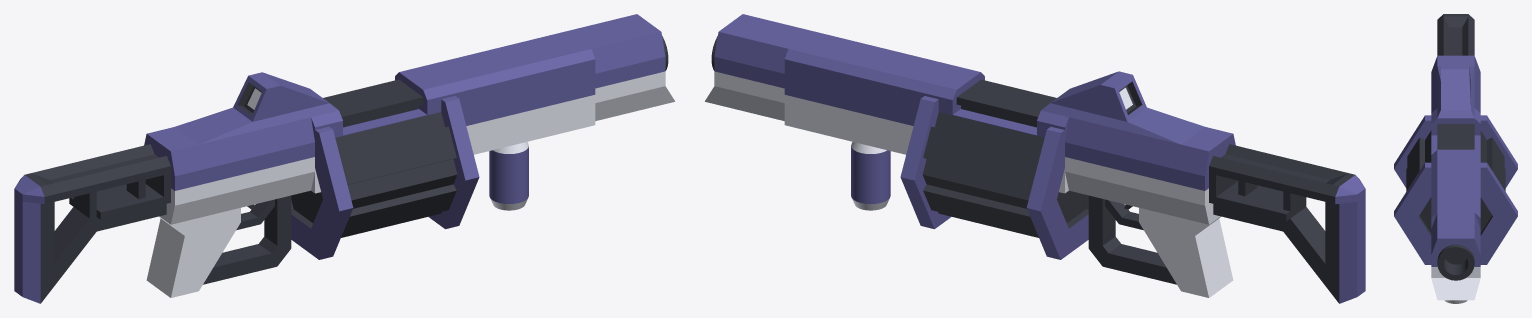
Rendered from BlasterHighCaliber1.fbx.
3 views of the same model, side by side, from view 1: azimuth 30°, elevation 25°; view 2: azimuth 150°, elevation 25°; view 3: azimuth 270°, elevation 25° (orthographic). The views are drawn at different scales.
Visible parts, largest first — view 1: mediumBlaster_handleGuard, clipBarrel_large, stock_stealth, blaster_center, mediumBlaster_barrelShort, blaster_centerDetail, detailCounter, attachment_handle; view 2: mediumBlaster_handleGuard, clipBarrel_large, stock_stealth, blaster_center, mediumBlaster_barrelShort, blaster_centerDetail, detailCounter, attachment_handle; view 3: clipBarrel_large, mediumBlaster_barrelShort, blaster_center, blaster_centerDetail, detailCounter, stock_stealth, mediumBlaster_handleGuard.
Boxes of the visible parts, bbox=[...] form: mediumBlaster_handleGuard: bbox=[144, 117, 314, 297]; clipBarrel_large: bbox=[291, 96, 479, 259]; stock_stealth: bbox=[14, 144, 170, 303]; blaster_center: bbox=[427, 31, 595, 154]; mediumBlaster_barrelShort: bbox=[567, 14, 674, 120]; blaster_centerDetail: bbox=[311, 65, 455, 193]; detailCounter: bbox=[175, 72, 338, 144]; attachment_handle: bbox=[489, 142, 528, 210]; mediumBlaster_handleGuard: bbox=[1065, 117, 1235, 297]; clipBarrel_large: bbox=[900, 96, 1088, 259]; stock_stealth: bbox=[1209, 144, 1365, 303]; blaster_center: bbox=[784, 31, 952, 154]; mediumBlaster_barrelShort: bbox=[705, 14, 812, 120]; blaster_centerDetail: bbox=[924, 65, 1068, 193]; detailCounter: bbox=[1041, 71, 1204, 144]; attachment_handle: bbox=[851, 142, 890, 210]; clipBarrel_large: bbox=[1394, 115, 1517, 264]; mediumBlaster_barrelShort: bbox=[1431, 212, 1480, 300]; blaster_center: bbox=[1431, 160, 1480, 228]; blaster_centerDetail: bbox=[1431, 108, 1480, 165]; detailCounter: bbox=[1437, 64, 1474, 118]; stock_stealth: bbox=[1437, 14, 1474, 55]; mediumBlaster_handleGuard: bbox=[1431, 55, 1480, 112].
Size of the model in its own units: 46 by 12.5 by 10.
